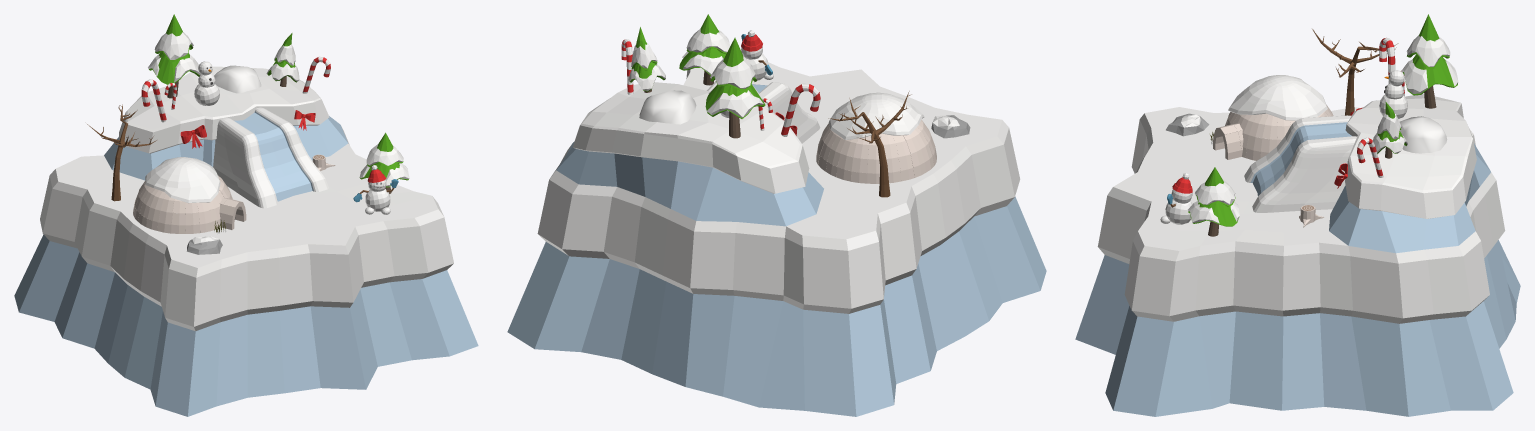
The model's file is Island_16.fbx.
The picture shows the model from 3 angles, left to right: view 1: azimuth 30°, elevation 25°; view 2: azimuth 150°, elevation 25°; view 3: azimuth 270°, elevation 25°; orthographic projection. The views are drawn at different scales.
Visible parts, largest first — view 1: Isl_16_Base, Isl_16_Slide, Isl_16_Hut, Isl_16_Tree_3, Isl_16_Tree_1, Isl_16_Snowman_1, Isl_16_Snowdrift_1, Isl_16_Tree_2, Isl_16_Tree_4, Isl_16_Snowman_2, Isl_16_Stone_1, Isl_16_Candy_2; view 2: Isl_16_Base, Isl_16_Hut, Isl_16_Tree_3, Isl_16_Tree_1, Isl_16_Snowdrift_1, Isl_16_Slide, Isl_16_Tree_4, Isl_16_Tree_2, Isl_16_Snowman_1, Isl_16_Stone_1, Isl_16_Candy_2; view 3: Isl_16_Base, Isl_16_Slide, Isl_16_Hut, Isl_16_Tree_3, Isl_16_Tree_1, Isl_16_Snowdrift_1, Isl_16_Snowman_1, Isl_16_Tree_2, Isl_16_Tree_4, Isl_16_Snowman_2, Isl_16_Stone_1, Isl_16_Candy_2 (+1 smaller).
Boxes of the visible parts, x1,y1,x2,y2 form: Isl_16_Base: [14, 66, 478, 416]; Isl_16_Slide: [213, 107, 328, 208]; Isl_16_Hut: [133, 157, 246, 233]; Isl_16_Tree_3: [148, 14, 200, 98]; Isl_16_Tree_1: [359, 132, 409, 193]; Isl_16_Snowman_1: [353, 165, 398, 214]; Isl_16_Snowdrift_1: [214, 65, 261, 93]; Isl_16_Tree_2: [266, 33, 299, 86]; Isl_16_Tree_4: [87, 104, 156, 201]; Isl_16_Snowman_2: [194, 61, 219, 105]; Isl_16_Stone_1: [187, 236, 222, 254]; Isl_16_Candy_2: [141, 79, 166, 122]; Isl_16_Base: [507, 62, 1046, 416]; Isl_16_Hut: [816, 92, 936, 183]; Isl_16_Tree_3: [705, 37, 765, 138]; Isl_16_Tree_1: [679, 14, 730, 85]; Isl_16_Snowdrift_1: [639, 90, 696, 124]; Isl_16_Slide: [707, 81, 820, 143]; Isl_16_Tree_4: [828, 91, 911, 197]; Isl_16_Tree_2: [628, 27, 665, 92]; Isl_16_Snowman_1: [741, 30, 773, 80]; Isl_16_Stone_1: [931, 115, 970, 138]; Isl_16_Candy_2: [781, 83, 820, 136]; Isl_16_Base: [1075, 93, 1520, 416]; Isl_16_Slide: [1244, 115, 1356, 212]; Isl_16_Hut: [1213, 75, 1333, 160]; Isl_16_Tree_3: [1401, 14, 1458, 108]; Isl_16_Tree_1: [1188, 167, 1239, 236]; Isl_16_Snowdrift_1: [1399, 116, 1447, 153]; Isl_16_Snowman_1: [1160, 173, 1192, 224]; Isl_16_Tree_2: [1373, 102, 1407, 158]; Isl_16_Tree_4: [1312, 29, 1398, 115]; Isl_16_Snowman_2: [1379, 70, 1407, 118]; Isl_16_Stone_1: [1166, 113, 1209, 136]; Isl_16_Candy_2: [1379, 37, 1395, 83].
Size of the model in its own units: 2165 by 2296 by 1738.
